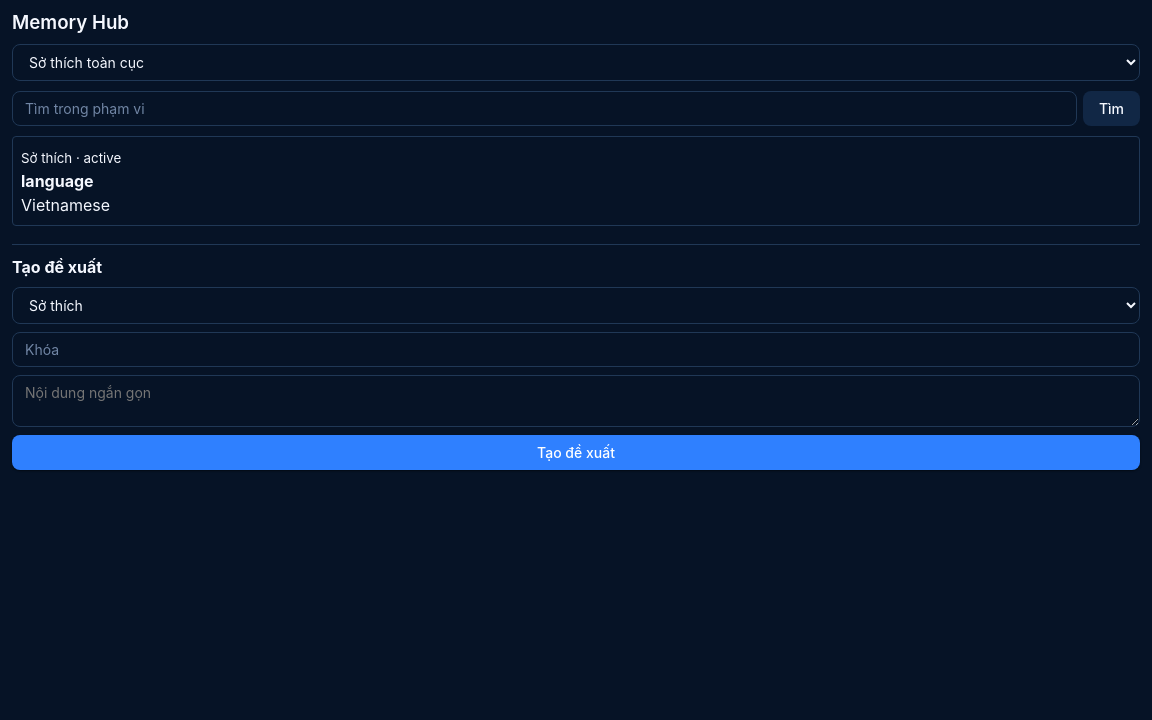
Test: MemoryHubPanel › uses an explicit scope and clears prior results when scope changes
The image size is (1152, 720).
Expected: the text "language" is shown, [21, 172, 94, 192]
Select "Dự án" in the dropdown named "Phạm vi Memory Hub" at point(576, 63), box [12, 44, 1140, 82]
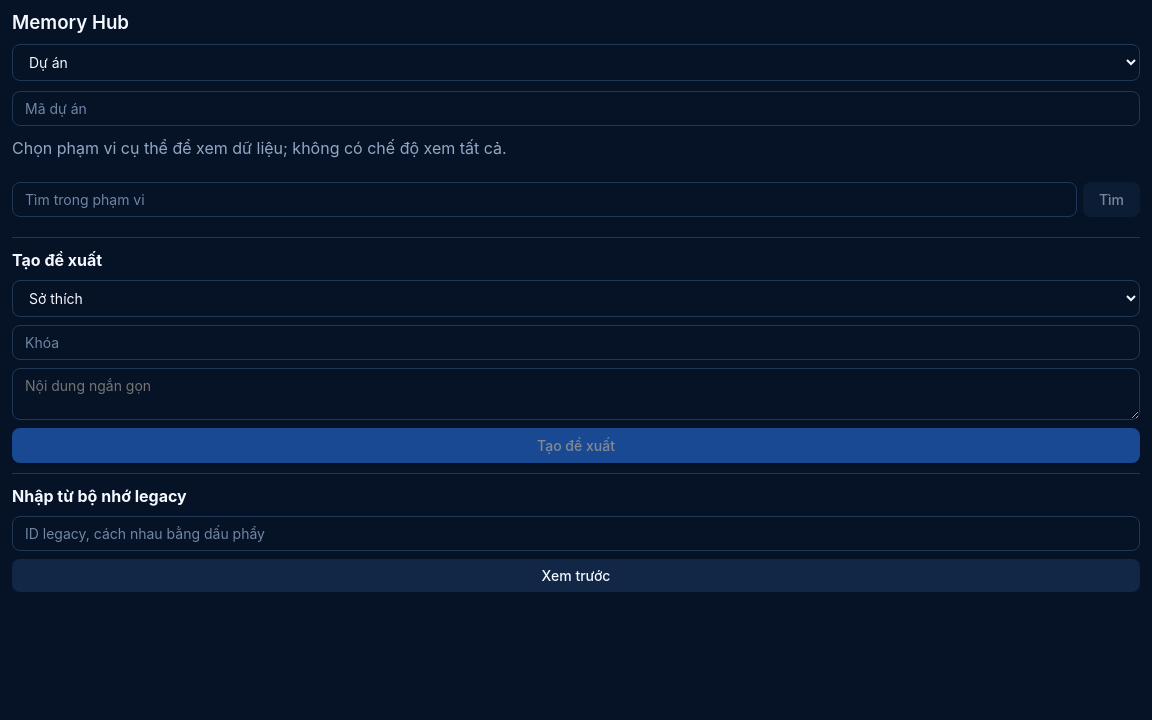
Expected: the text "language" is gone
Expected: the text "Chọn phạm vi cụ thể" is shown, [12, 138, 507, 158]
